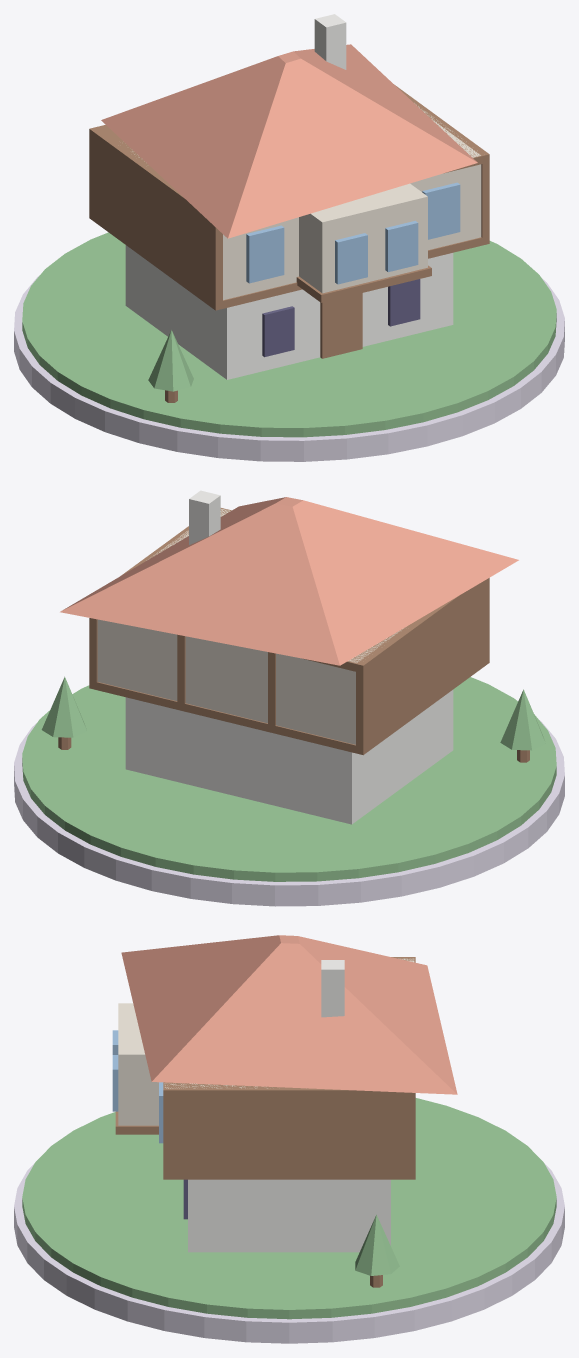
The model's file is safranbolu.glb.
The picture shows the model from 3 angles, top to bottom: view 1: azimuth 30°, elevation 25°; view 2: azimuth 150°, elevation 25°; view 3: azimuth 270°, elevation 25°; orthographic projection.
Parts seen in each view (by area): view 1: safranbolu; view 2: safranbolu; view 3: safranbolu.
Part boxes in pixels (left/top/right/bottom): safranbolu: left=14, top=14, right=564, bottom=461; safranbolu: left=14, top=490, right=564, bottom=906; safranbolu: left=14, top=935, right=564, bottom=1343.
Size of the model in its own units: 1.9 by 1.12 by 1.9.
Materials: 1 (1 with a texture image).
